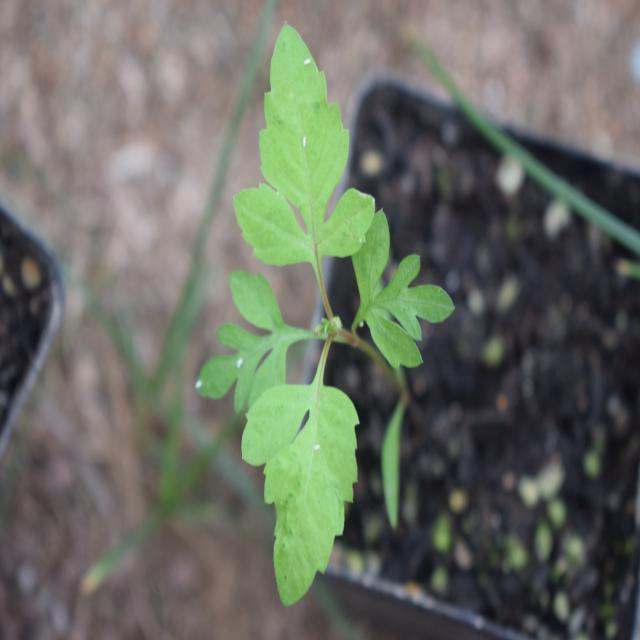Bidens pilosa: (193, 20, 464, 604)
